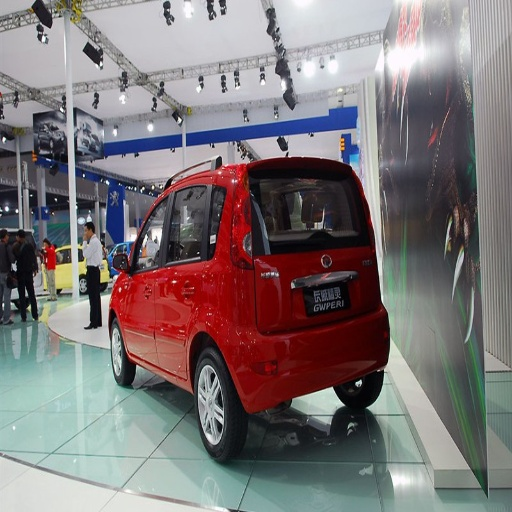back_bumper: (235, 302, 389, 414)
back_glass: (261, 167, 363, 241)
back_left_door: (158, 211, 210, 369)
trunk: (218, 246, 369, 362)
